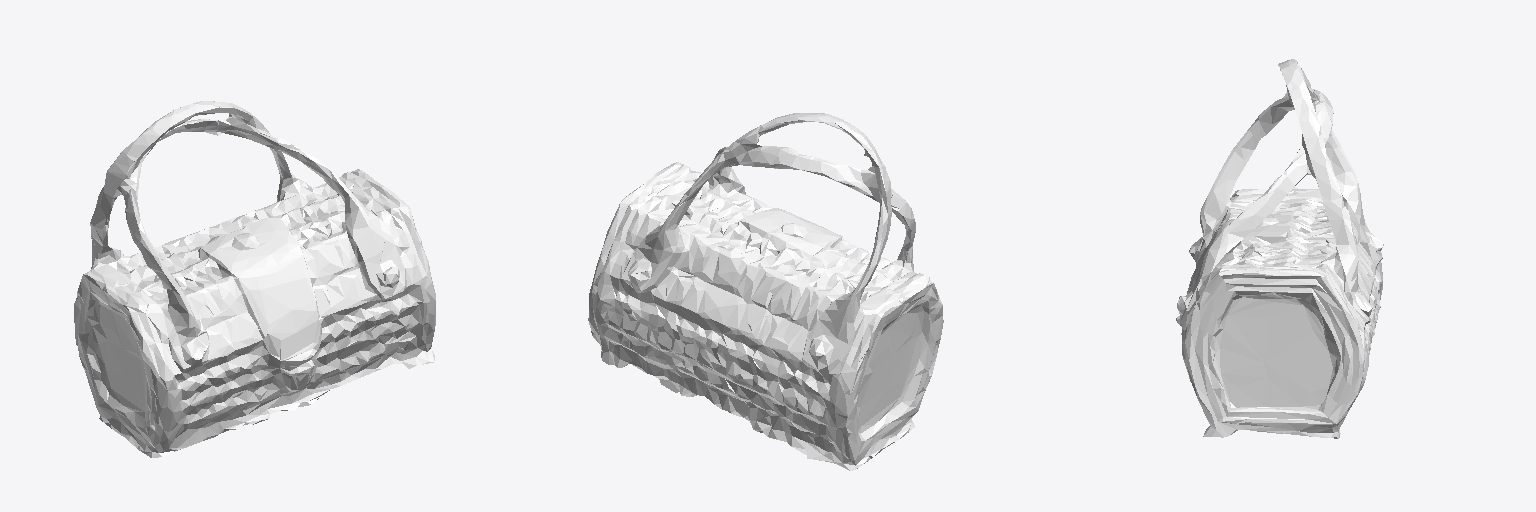
File: Kiste.obj
3 renders of one model, left to right at view 1: azimuth 30°, elevation 25°; view 2: azimuth 150°, elevation 25°; view 3: azimuth 270°, elevation 25°, orthographic.
Visible parts, largest first — view 1: Tasche_EVC_UE4.001; view 2: Tasche_EVC_UE4.001; view 3: Tasche_EVC_UE4.001.
Part boxes in pixels (x1,y1,x2,y2): Tasche_EVC_UE4.001: (74,101,435,457); Tasche_EVC_UE4.001: (588,113,943,470); Tasche_EVC_UE4.001: (1176,59,1383,438).
Size of the model in its own units: 1.11 by 1.16 by 0.6832.